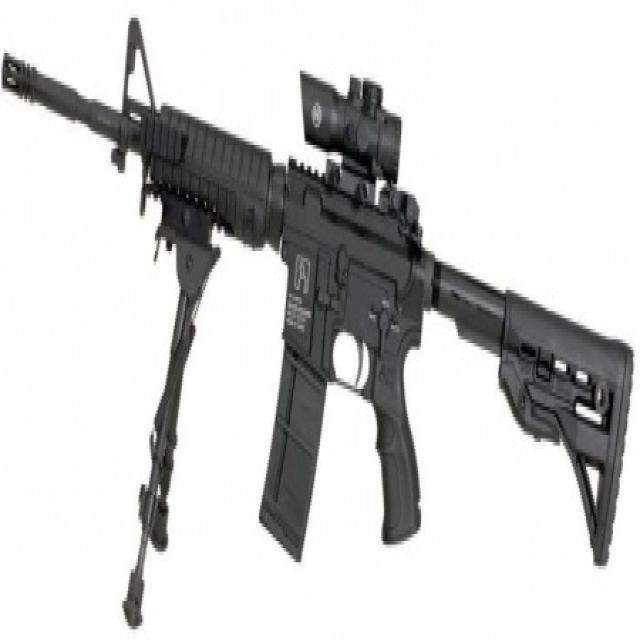rifle: (1, 1, 632, 637)
